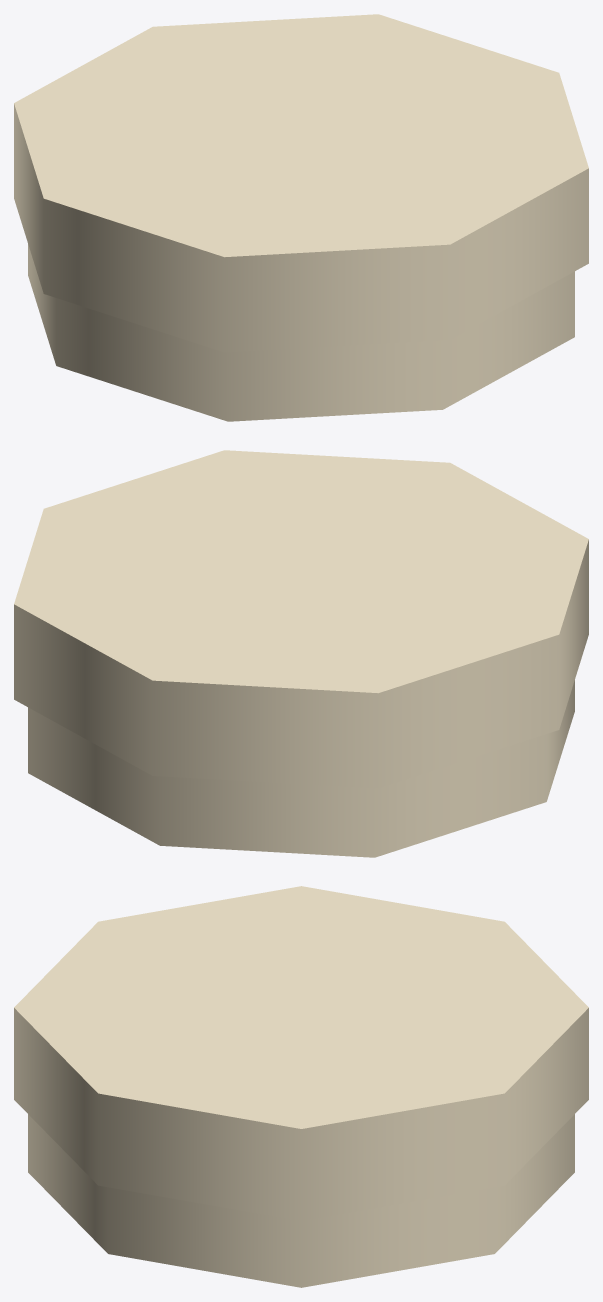
The model's file is Make Up Cream-dxGL6fv1lQ.glb.
3 renders of one model, top to bottom at view 1: azimuth 30°, elevation 25°; view 2: azimuth 150°, elevation 25°; view 3: azimuth 270°, elevation 25°, orthographic. The views are drawn at different scales.
Parts seen in each view (by area): view 1: make up_cream_lid.002, make up_cream.001; view 2: make up_cream_lid.002, make up_cream.001; view 3: make up_cream_lid.002, make up_cream.001.
Part boxes in pixels (x1,y1,x2,y2): make up_cream_lid.002: (14,14,588,352); make up_cream.001: (28,244,574,421); make up_cream_lid.002: (14,450,588,788); make up_cream.001: (28,680,574,857); make up_cream_lid.002: (14,886,588,1220); make up_cream.001: (28,1114,574,1287).
Size of the model in its own units: 9 by 2.85 by 9.
Materials: 1 (1 with a texture image).
